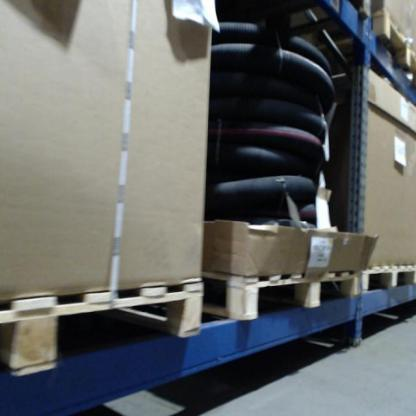pallet: (0, 273, 208, 380), (205, 258, 362, 320), (372, 4, 415, 94), (357, 259, 415, 298)
